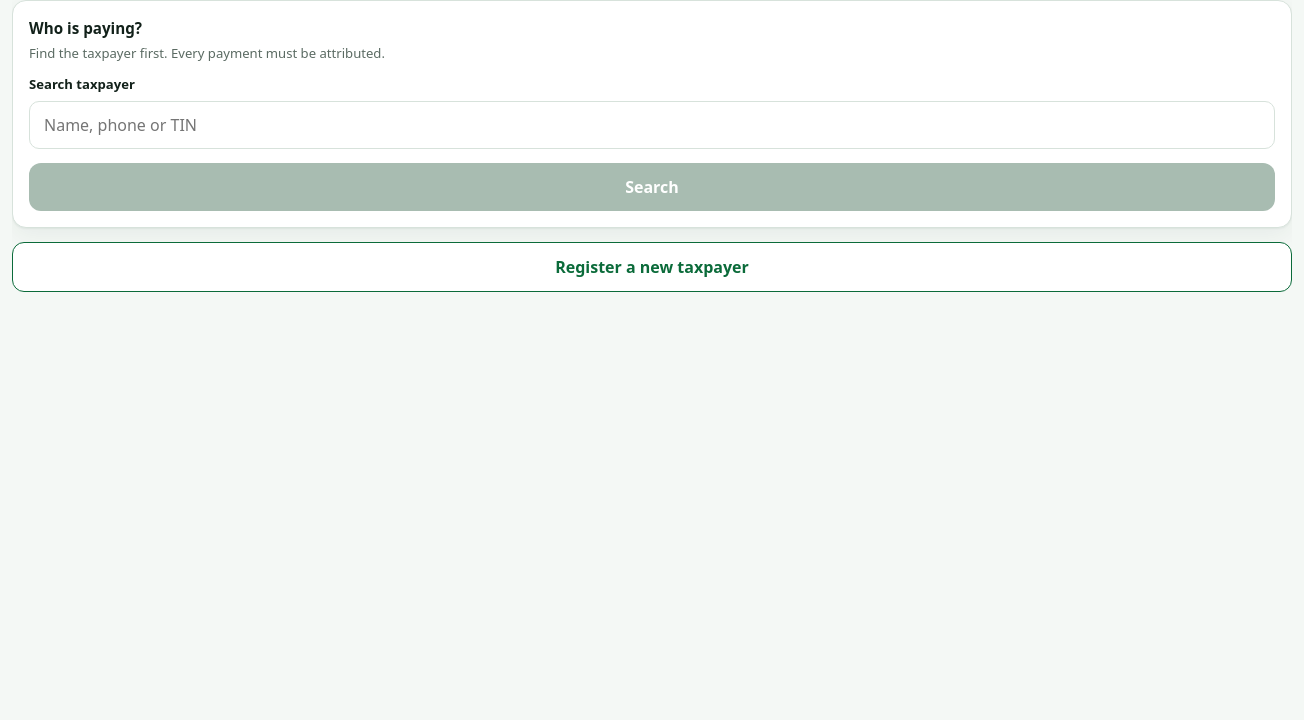
Test: a taxpayer the Schedule exempts, at the counter › is not announced as a collection the agent is about to take
Type "Ladi" into the search field labelled "Search taxpayer" at (652, 125), box [29, 101, 1275, 149]
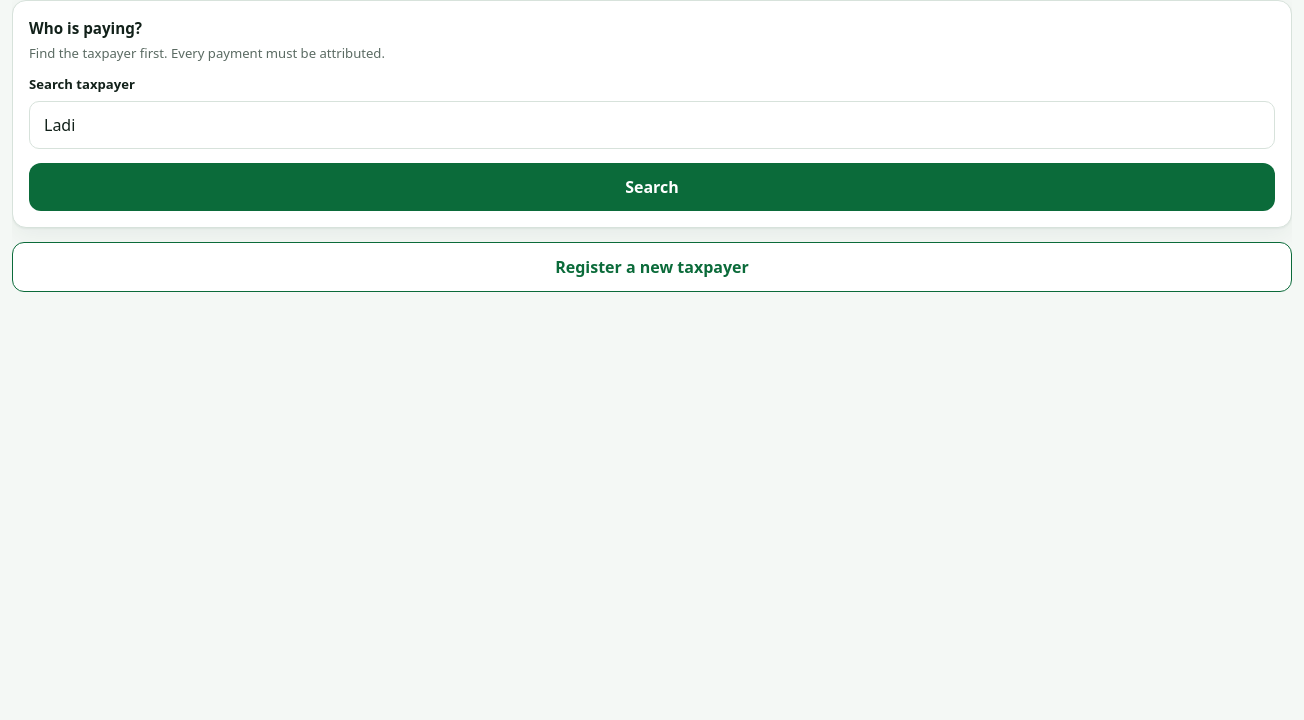
Click the button "Search" at (652, 187), box [29, 163, 1275, 211]
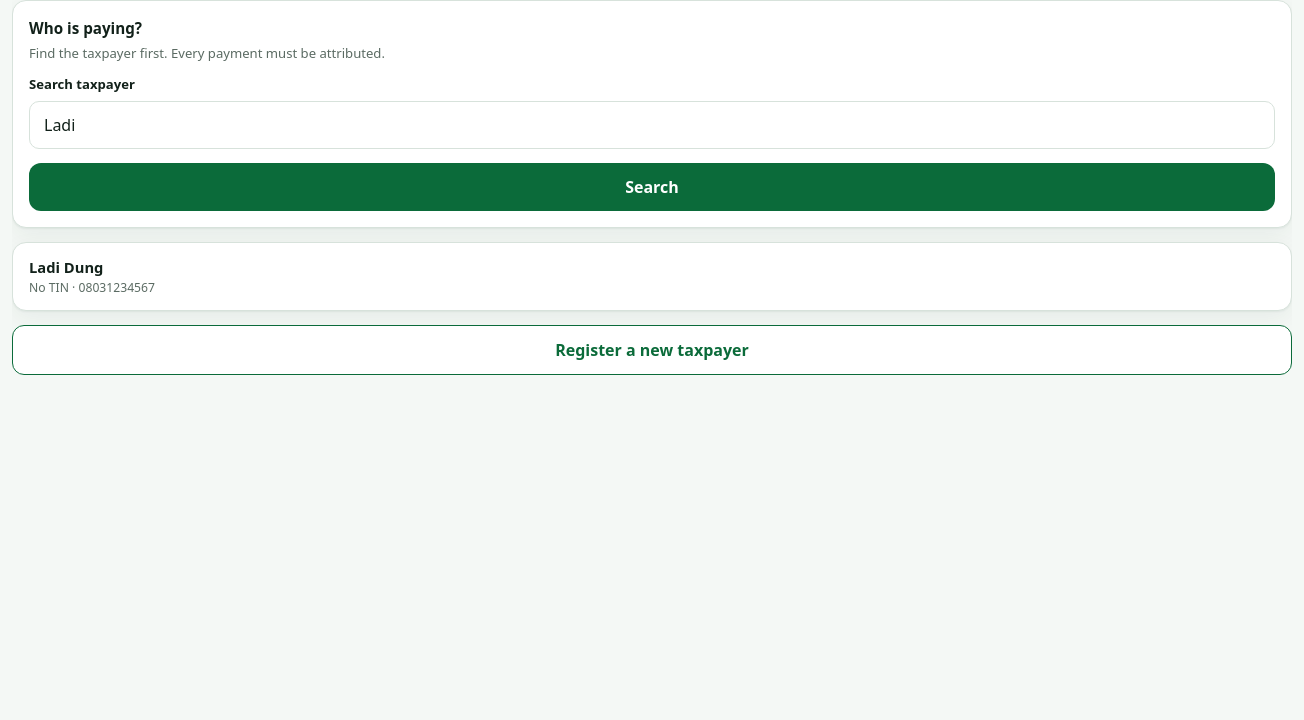
expect the text "Ladi Dung" is shown: met
Click the text "Ladi Dung" at (66, 267), box [29, 257, 103, 277]
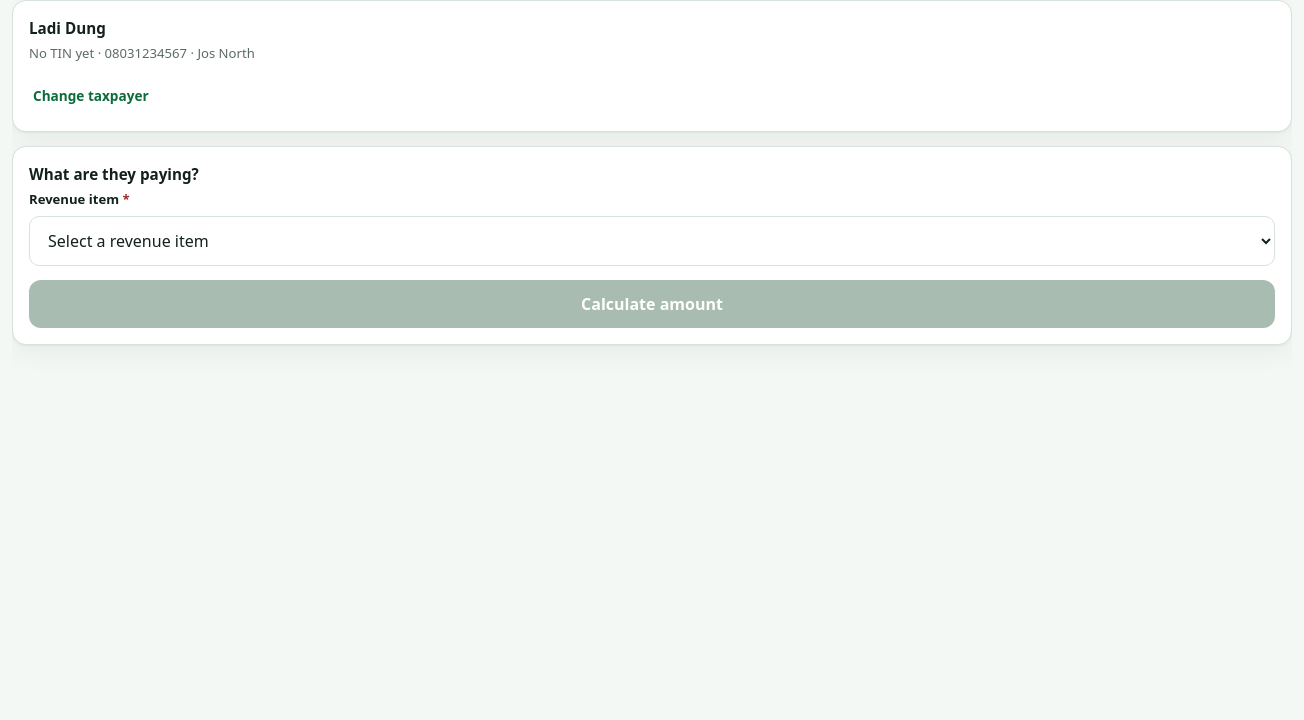
expect the dropdown labelled "Revenue item *" is shown: met
Select "Personal Income Tax — Direct Assessment / Self-Assessment" in the dropdown labelled "Revenue item *" at (652, 241), box [29, 216, 1275, 266]
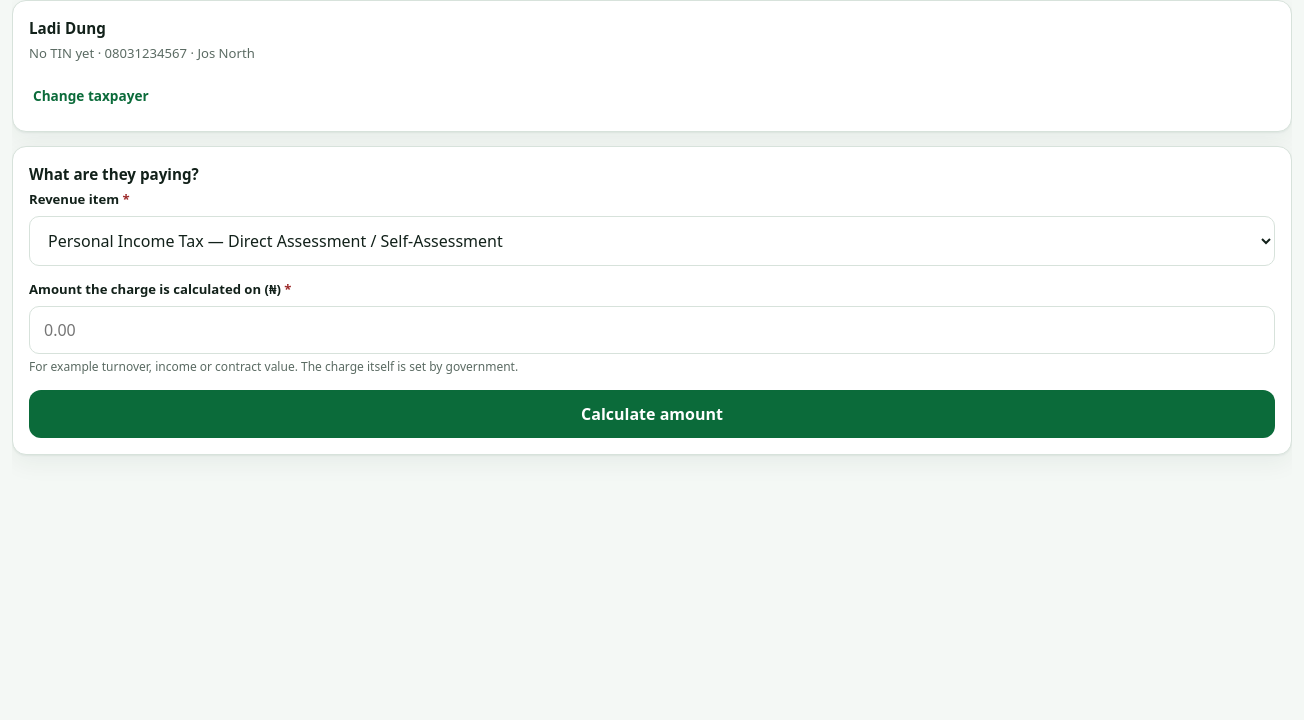
Type "300000" into the field labelled "Amount the charge is calculated on (₦) *" at (652, 330), box [29, 306, 1275, 354]
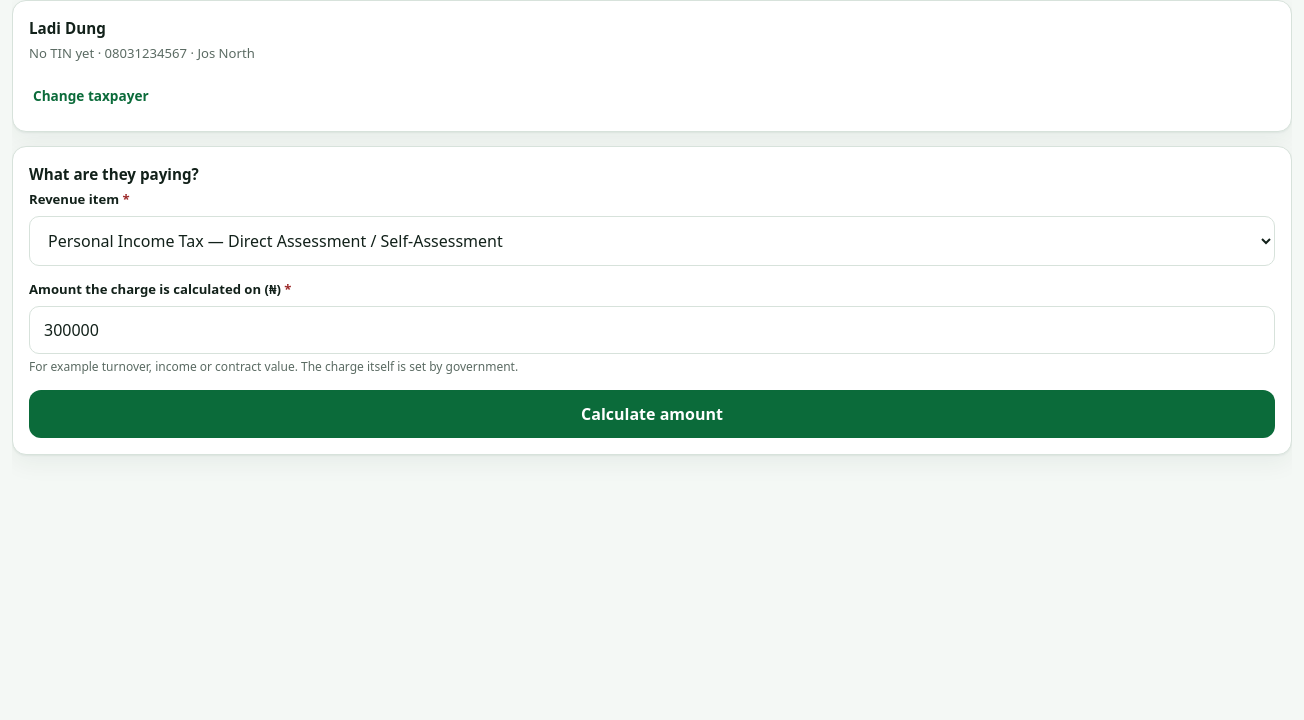
Click the button "Calculate amount" at (652, 414), box [29, 390, 1275, 438]
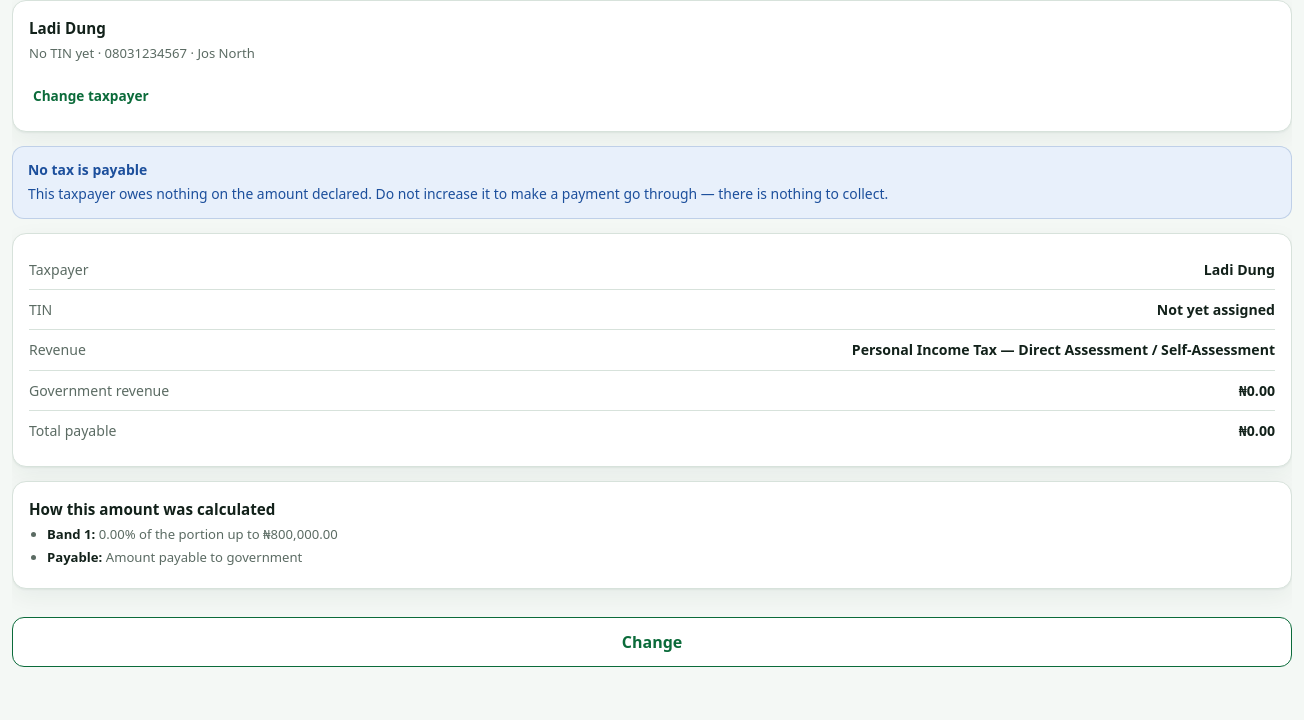
expect the heading "How this amount was calculated" is shown: met, box [29, 499, 275, 519]
